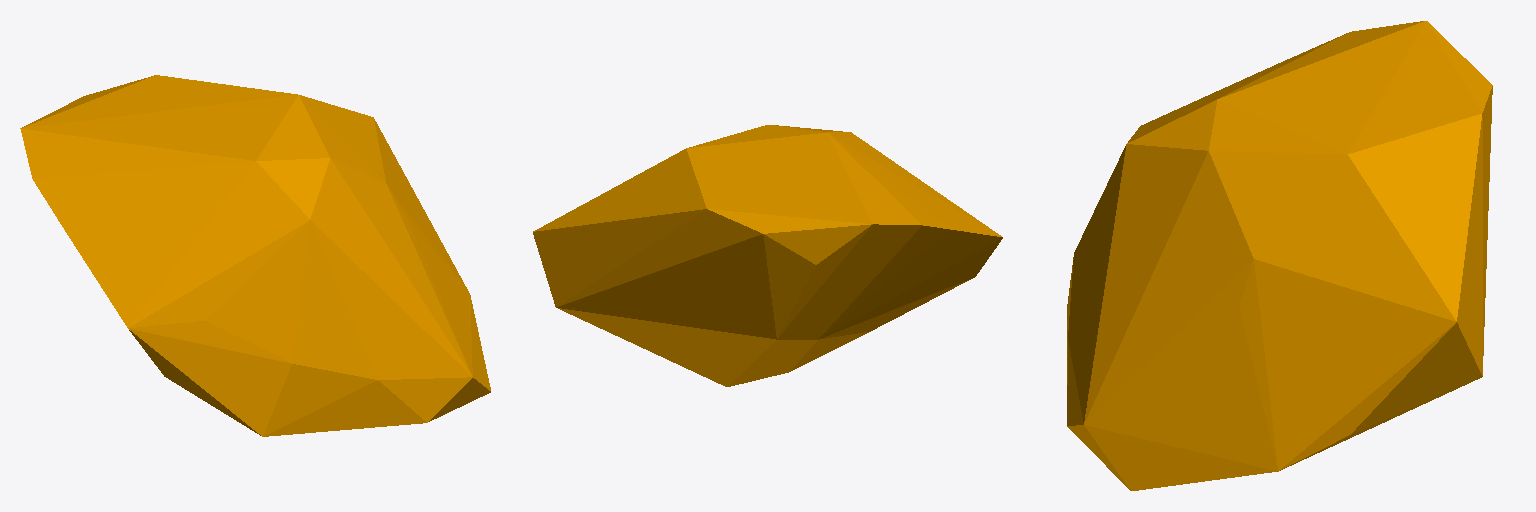
robot.urdf — 047_016_3433:
<?xml version="1.0"?>
<robot name="047_016_3433">
  <link name="link">
    <contact>
      <lateral_friction value="0.6"/>
    </contact>
    <inertial>
      <mass value = "0.09850100517332407"/>
      <inertia ixx="1.8193418773282544e-05" ixy="1.1644019405523348e-06" ixz="-3.245493782032379e-06" iyy="2.025322294408028e-05" iyz="3.0903779374647013e-06" izz="2.4931759701564243e-05" />
    </inertial>
    <visual name="visual">
      <geometry>
        <mesh filename="047_016_3433.obj"/>
      </geometry>
    </visual>
    <collision name="collision">
      <geometry>
        <mesh filename="047_016_3433.obj"/>
      </geometry>
    </collision>
  </link>
</robot>

--- What the picture shows (computed from the rendered views, not written in the file) ---
3 views of the same robot in one strip: view 1: azimuth 30°, elevation 25°; view 2: azimuth 150°, elevation 25°; view 3: azimuth 270°, elevation 25° (orthographic).
Model 047_016_3433 with 1 links and 0 joints (none), rooted at link, posed every joint at zero.
Visible links, largest first — view 1: link; view 2: link; view 3: link.
Boxes of the visible links, bbox=[...] form: link: bbox=[20, 75, 490, 436]; link: bbox=[533, 125, 1002, 386]; link: bbox=[1067, 21, 1492, 490].
Bounding box of the posed robot: 0.0554 × 0.0445 × 0.0345 m (x, y, z).
1 mesh visuals loaded from 1 distinct referenced files (1 OBJ).
